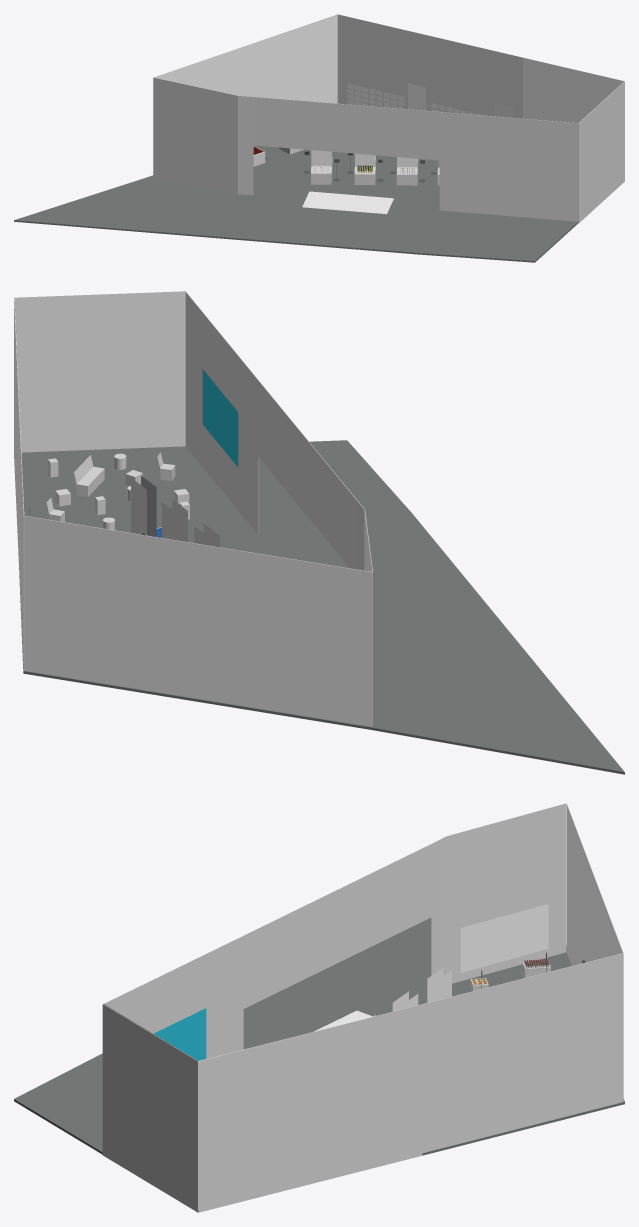
The model's file is taiwan tesaaat.glb.
The picture shows the model from 3 angles, top to bottom: view 1: azimuth 30°, elevation 25°; view 2: azimuth 150°, elevation 25°; view 3: azimuth 270°, elevation 25°; orthographic projection. The views are drawn at different scales.
Parts seen in each view (by area): view 1: Cube.015; view 2: Cube.015; view 3: Cube.015.
Boxes of the visible parts, <box> form: Cube.015: <box>14,14,624,262</box>; Cube.015: <box>14,291,624,774</box>; Cube.015: <box>14,803,624,1212</box>.
Size of the model in its own units: 33.34 by 6.39 by 23.35.
202 materials, 2 textured.
